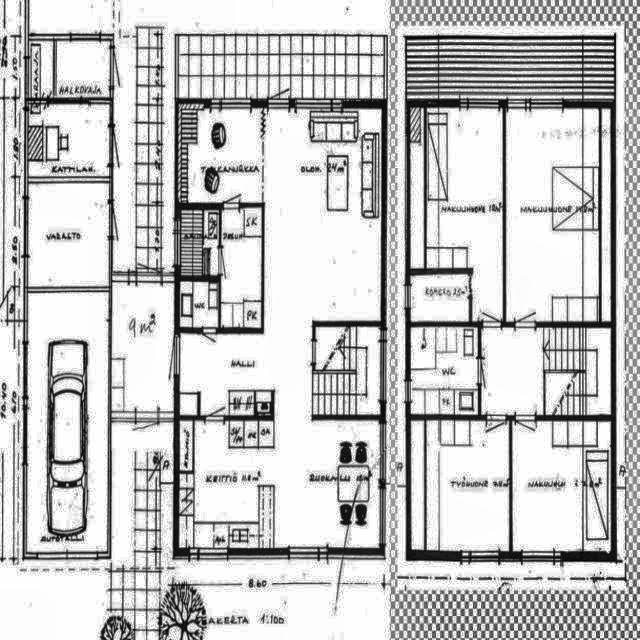room: (506, 109, 611, 321), (512, 422, 611, 551), (411, 421, 509, 551), (28, 184, 109, 287), (112, 283, 174, 412), (29, 105, 110, 177), (313, 327, 380, 414), (411, 328, 477, 414), (221, 208, 261, 327), (29, 42, 110, 97), (181, 210, 219, 276), (179, 282, 220, 328)
